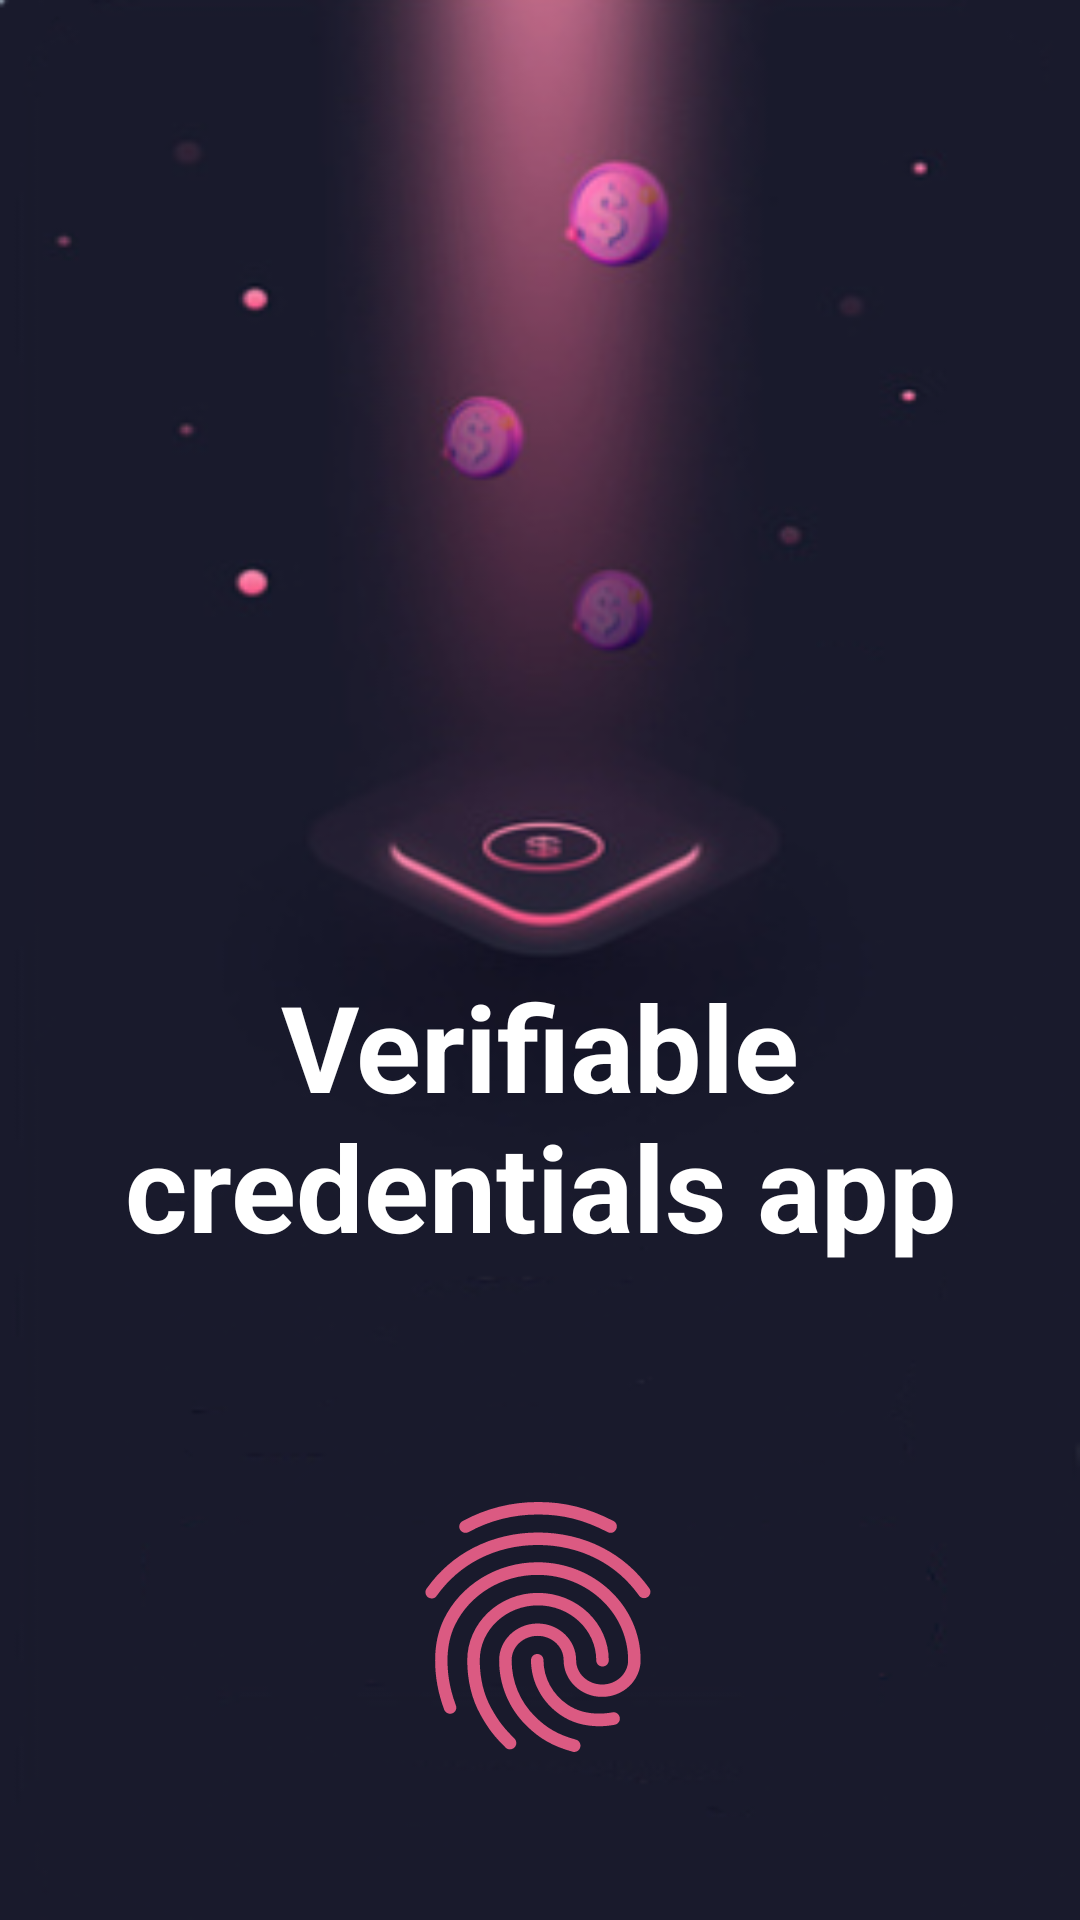

Screen size 1080w x 1920h. Icon name, then its box in pixels as detection(x1, y1, x2, y2):
fingerprint: detection(425, 1502, 651, 1752)
